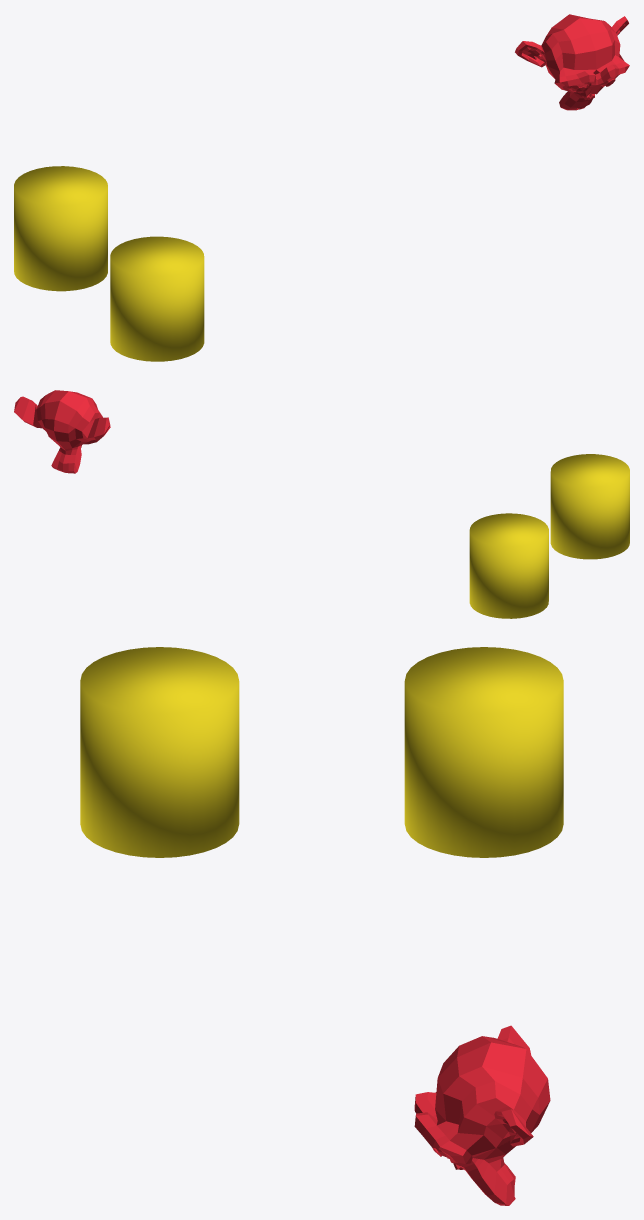
Rendered from TestScene2.fbx.
3 renders of one model, top to bottom at view 1: azimuth 30°, elevation 25°; view 2: azimuth 150°, elevation 25°; view 3: azimuth 270°, elevation 25°, orthographic. The views are drawn at different scales.
Parts seen in each view (by area): view 1: Cylinder, Cylinder.001, Suzanne; view 2: Cylinder.001, Cylinder, Suzanne; view 3: Cylinder, Cylinder.001, Suzanne.
Boxes of the visible parts, box(x1,y1,x2,y2) form: Cylinder: box(110, 236, 204, 361); Cylinder.001: box(14, 166, 107, 291); Suzanne: box(515, 14, 629, 110); Cylinder.001: box(469, 513, 548, 618); Cylinder: box(550, 454, 629, 559); Suzanne: box(14, 390, 110, 473); Cylinder: box(80, 647, 239, 857); Cylinder.001: box(404, 647, 563, 857); Suzanne: box(414, 1025, 550, 1205).
Size of the model in its own units: 15.13 by 2.92 by 6.09.
